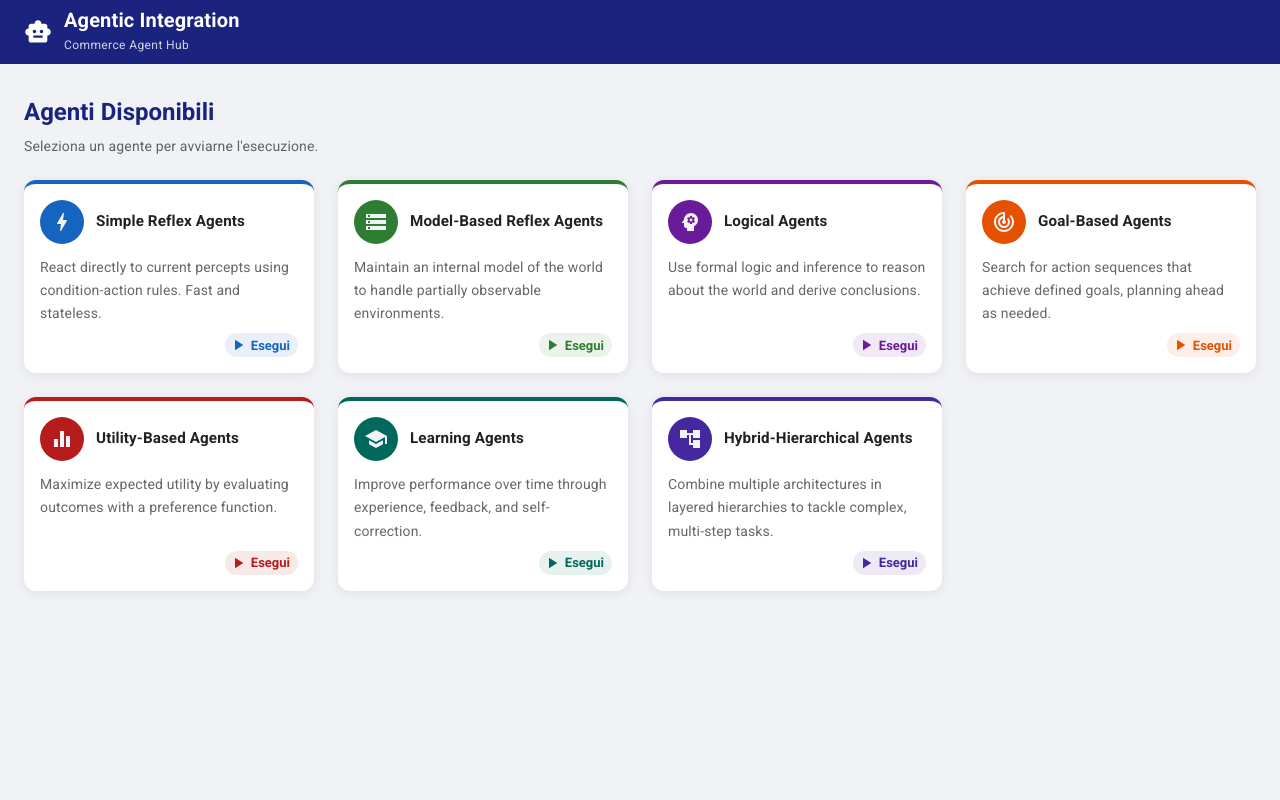
Test case: Dashboard › U-D-05: clicking simple-reflex card opens the scenario dialog
Click the button with aria-label "Esegui Simple Reflex Agents". click: (62, 222)
box: [24,184,314,373]
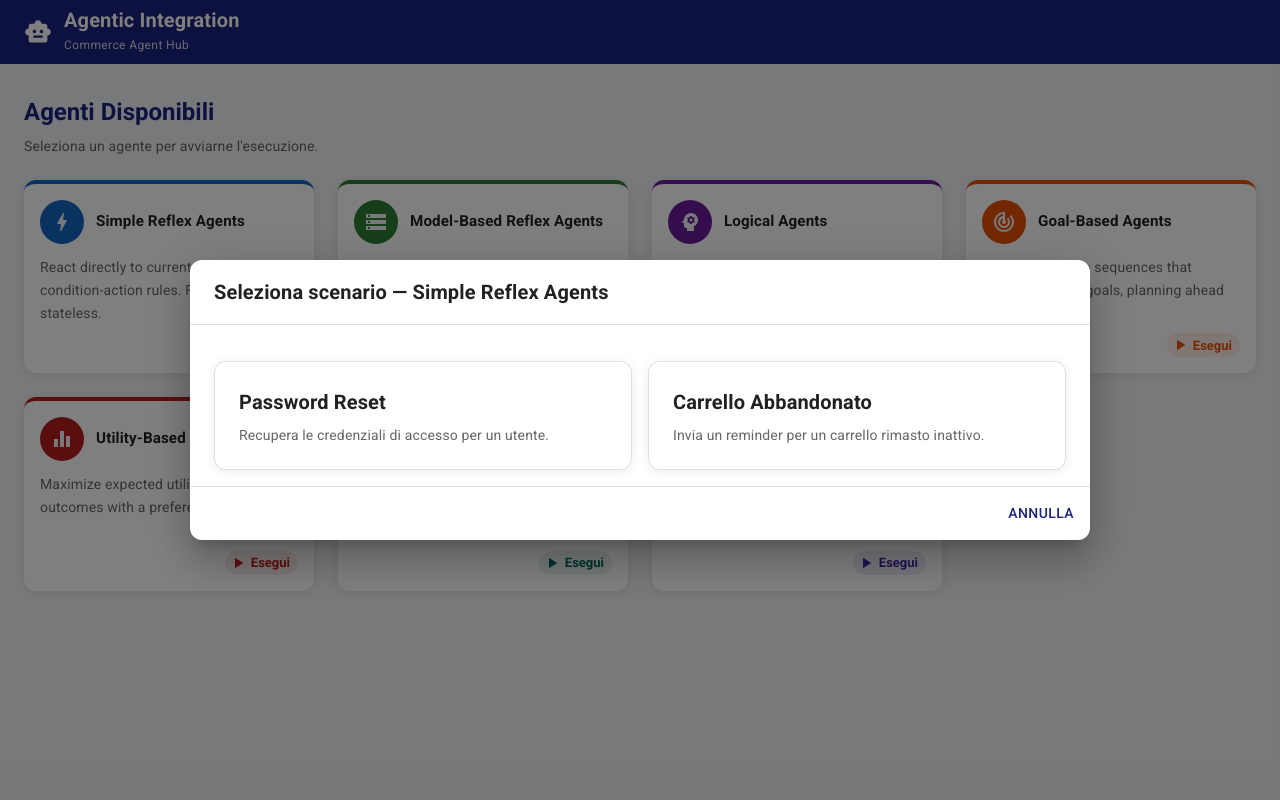
Check: the dialog is shown, box [190,260,1090,540]
